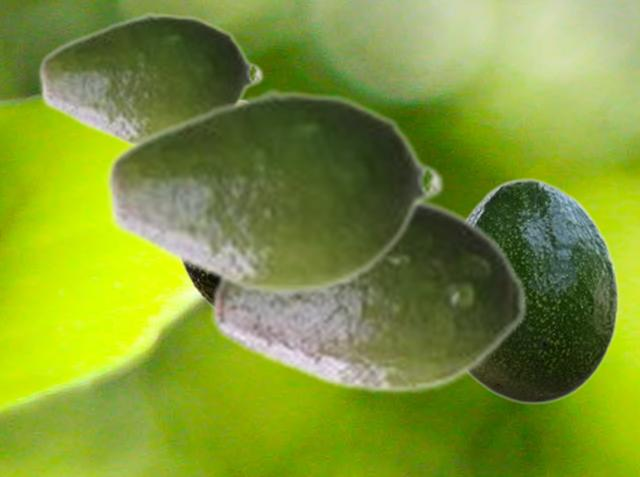avocado: (102, 86, 445, 298), (210, 197, 528, 395), (465, 178, 618, 404), (36, 10, 264, 145)
